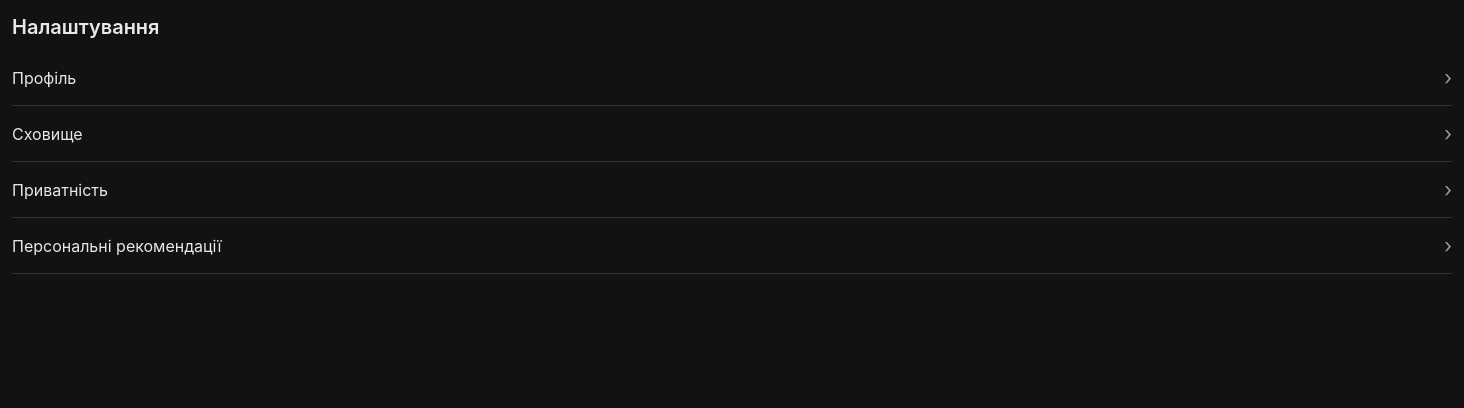
Test case: Settings › «Рекомендації» shows the honest empty state when nothing is hidden
Step 1. Click the button "Персональні рекомендації ›" → (117, 246), box [12, 218, 1452, 274]
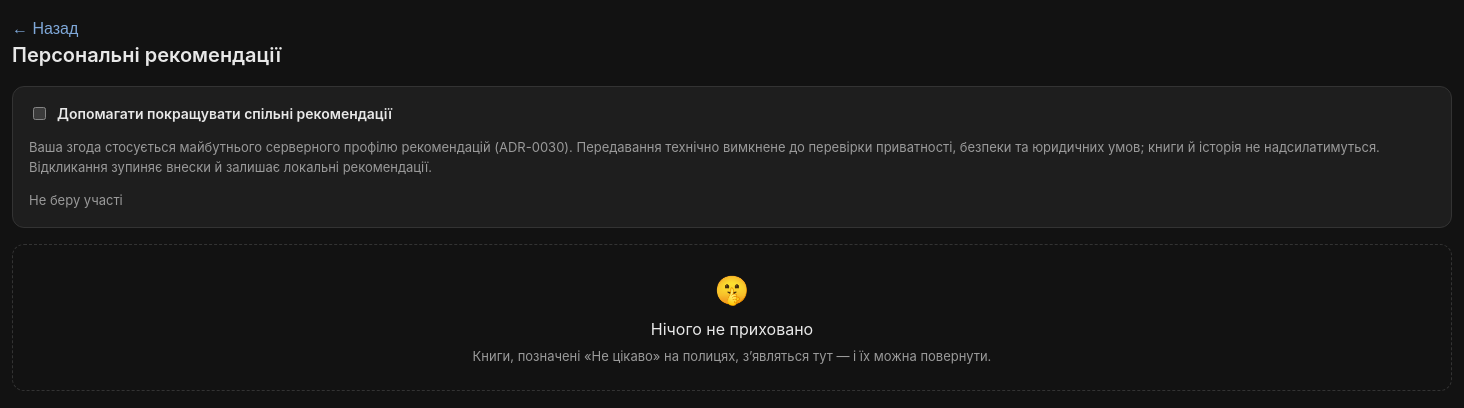
Expected: the text "Нічого не приховано" is shown, [651, 318, 813, 338]
